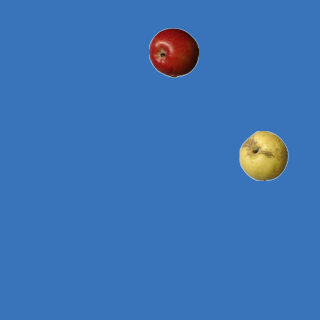Apple Braeburn: (148, 27, 198, 77)
Apple Golden 1: (238, 130, 288, 180)
